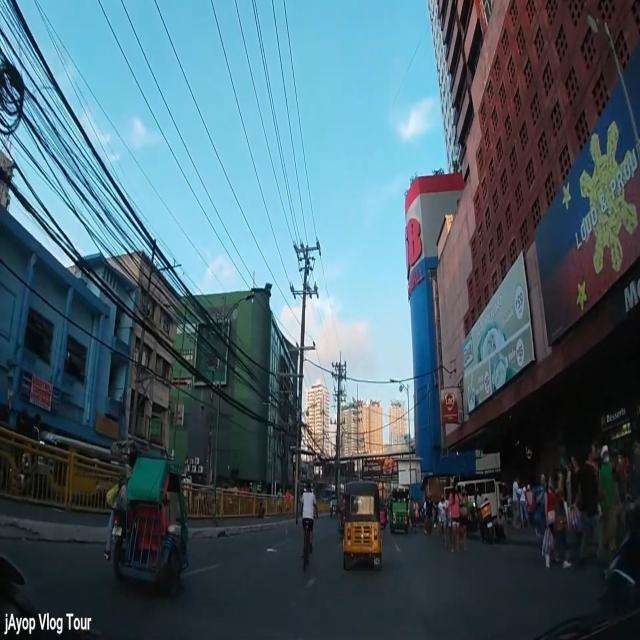bike: (300, 478, 320, 573)
motorcycle: (472, 497, 495, 545)
tricycle: (102, 439, 188, 599), (344, 480, 382, 570), (388, 488, 409, 535), (330, 496, 338, 516)
truck: (444, 479, 511, 526)
